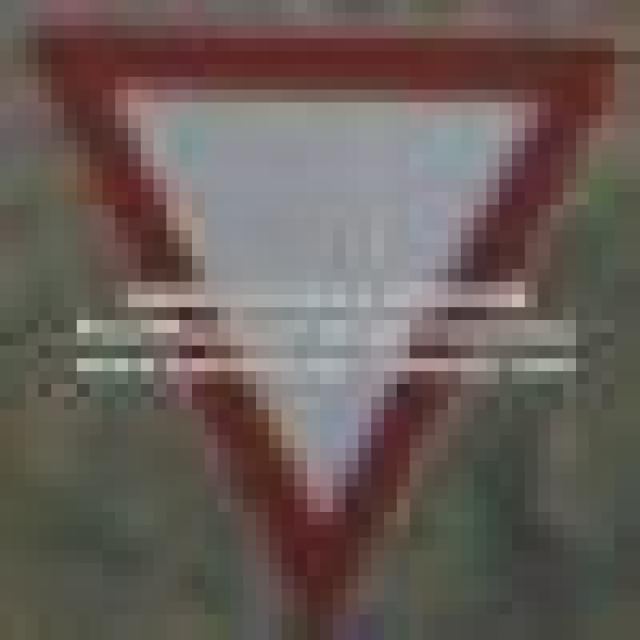gap_in_median: (0, 13, 627, 627)
